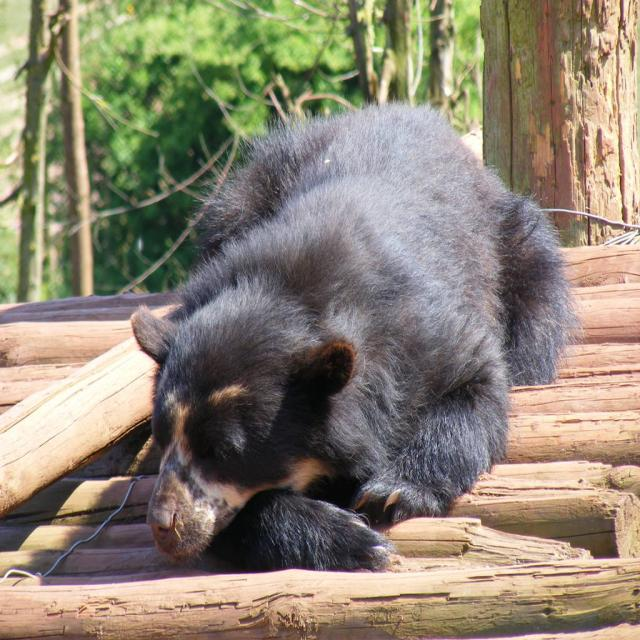Bear: (130, 89, 588, 573)
